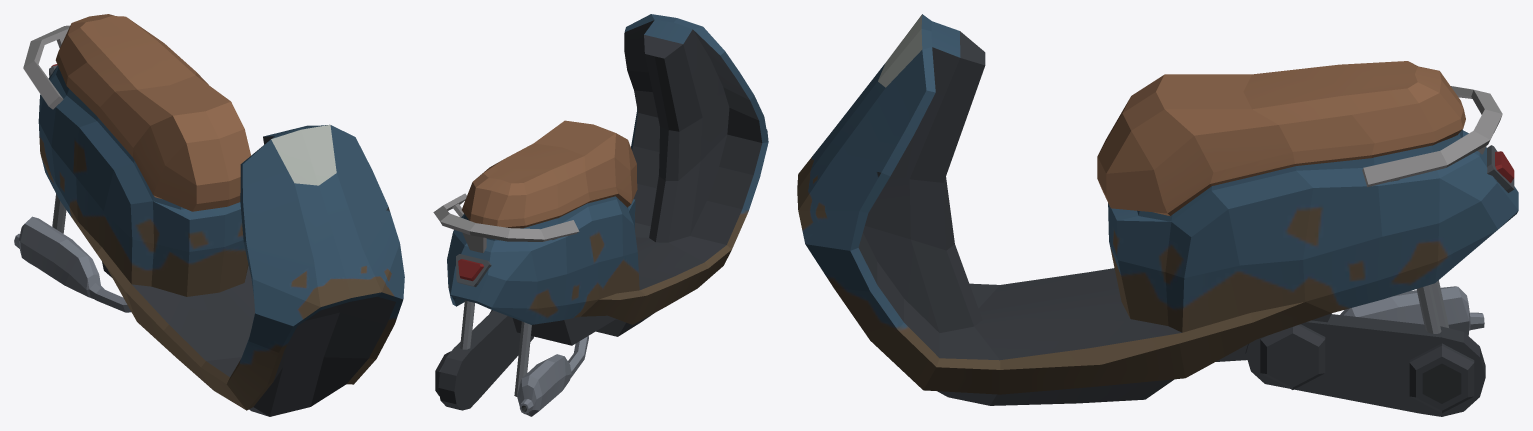
Rendered from SM_Veh_Moped_01.obj.
3 views of the same model, side by side, from view 1: azimuth 30°, elevation 25°; view 2: azimuth 150°, elevation 25°; view 3: azimuth 270°, elevation 25° (orthographic). The views are drawn at different scales.
Parts seen in each view (by area): view 1: SM_Veh_Moped_01_0; view 2: SM_Veh_Moped_01_0; view 3: SM_Veh_Moped_01_0.
Part boxes in pixels (x1,y1,x2,y2): SM_Veh_Moped_01_0: (14, 14, 404, 416); SM_Veh_Moped_01_0: (433, 14, 768, 416); SM_Veh_Moped_01_0: (797, 14, 1518, 416).
Bounding box in the file's own units: 0.4706 × 0.8907 × 1.6.
1 material, 1 textured.
